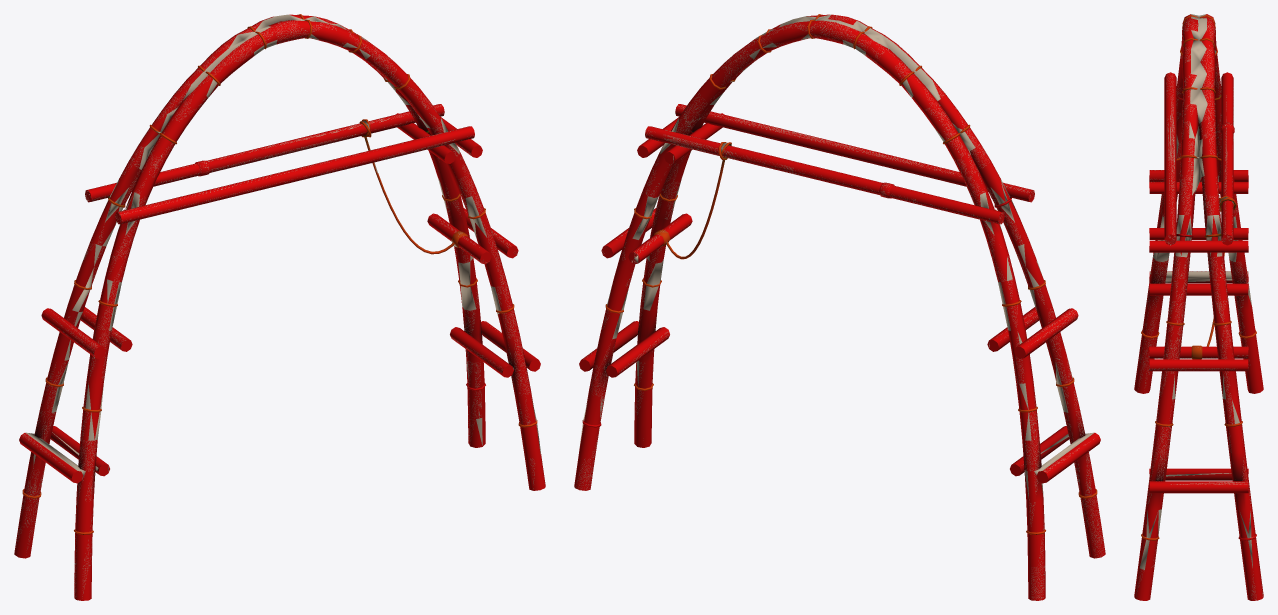
File: KB3D_GAE_Gate_C.glb
3 views of the same model, side by side, from view 1: azimuth 30°, elevation 25°; view 2: azimuth 150°, elevation 25°; view 3: azimuth 270°, elevation 25° (orthographic). The views are drawn at different scales.
Visible parts, largest first — view 1: L0, L2; view 2: L0, L2; view 3: L0, L2.
Boxes of the visible parts, x1,y1,x2,y2 form: L0: (14,14,545,600); L2: (14,14,542,597); L0: (574,14,1105,600); L2: (575,14,1103,600); L0: (1134,14,1263,600); L2: (1136,14,1262,600).
Bounding box in the file's own units: 6.2 × 6.34 × 1.58.
